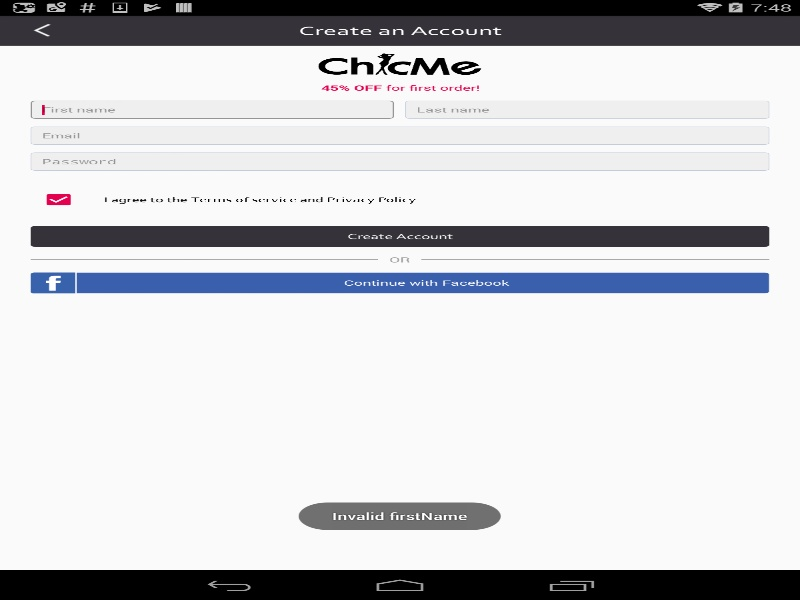Button: (30, 225, 769, 246), (17, 18, 70, 43)
Input: (30, 126, 769, 144), (30, 152, 769, 170), (30, 100, 394, 118), (405, 100, 769, 118)
